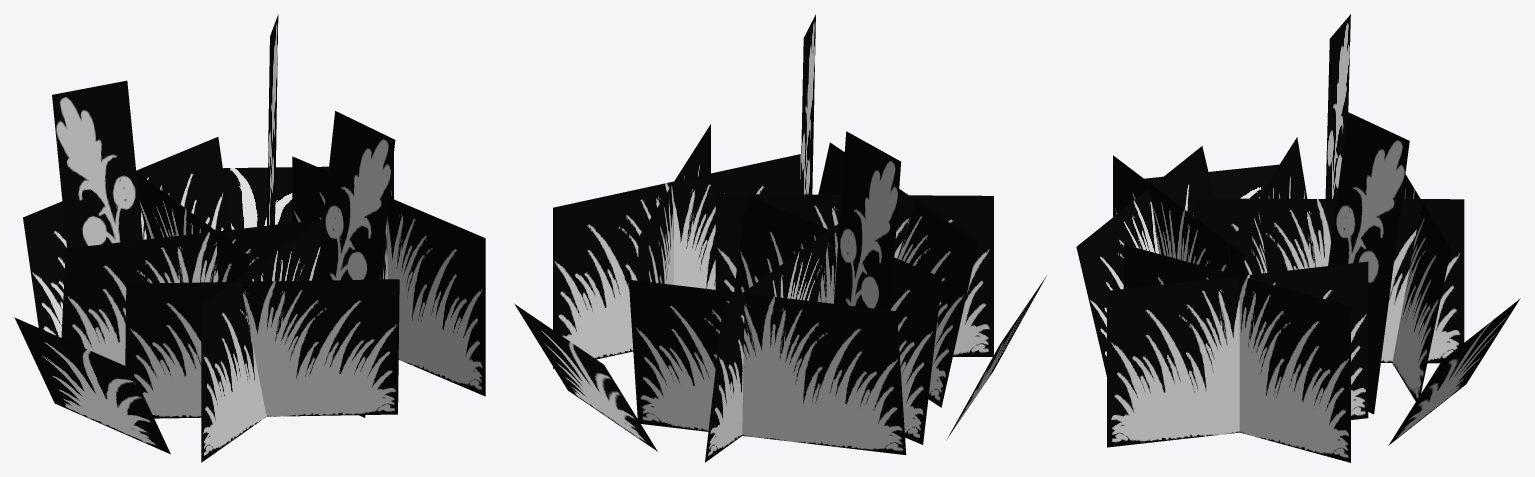
The model's file is grass.fbx.
3 views of the same model, side by side, from view 1: azimuth 30°, elevation 25°; view 2: azimuth 150°, elevation 25°; view 3: azimuth 270°, elevation 25° (orthographic). The views are drawn at different scales.
Parts seen in each view (by area): view 1: pPlane39; view 2: pPlane39; view 3: pPlane39.
Boxes of the visible parts, x1,y1,x2,y2 form: pPlane39: (14, 14, 485, 462); pPlane39: (514, 14, 1046, 462); pPlane39: (1076, 14, 1520, 462).
Size of the model in its own units: 151 by 105 by 143.
